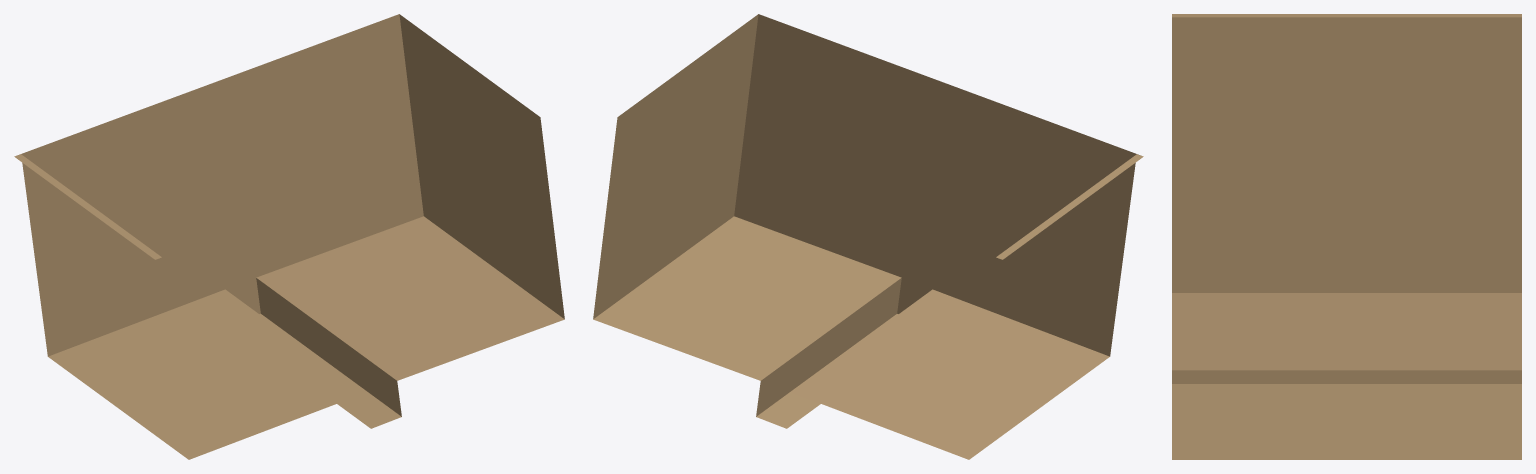
The picture shows the model from 3 angles, left to right: view 1: azimuth 30°, elevation 25°; view 2: azimuth 150°, elevation 25°; view 3: azimuth 270°, elevation 25°; orthographic projection. The views are drawn at different scales.
Parts seen in each view (by area): view 1: 0_0_3_2_1_0_0_2_0; view 2: 0_0_3_2_1_0_0_2_0; view 3: 0_0_3_2_1_0_0_2_0.
Part boxes in pixels (x1=…): 0_0_3_2_1_0_0_2_0: x1=14, y1=14, x2=564, y2=459; 0_0_3_2_1_0_0_2_0: x1=593, y1=14, x2=1143, y2=459; 0_0_3_2_1_0_0_2_0: x1=1172, y1=14, x2=1521, y2=459.
Size of the model in its own units: 45.28 by 28.54 by 27.
